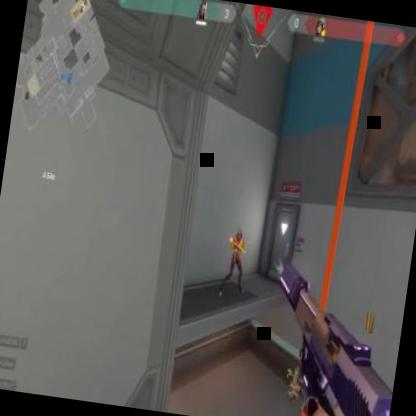enemy: (217, 226, 253, 300)
enemy_head: (235, 228, 242, 242)
